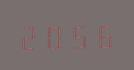five: (66, 20, 89, 49)
six: (90, 19, 113, 49)
two: (18, 20, 41, 50)
zero: (42, 20, 65, 50)
